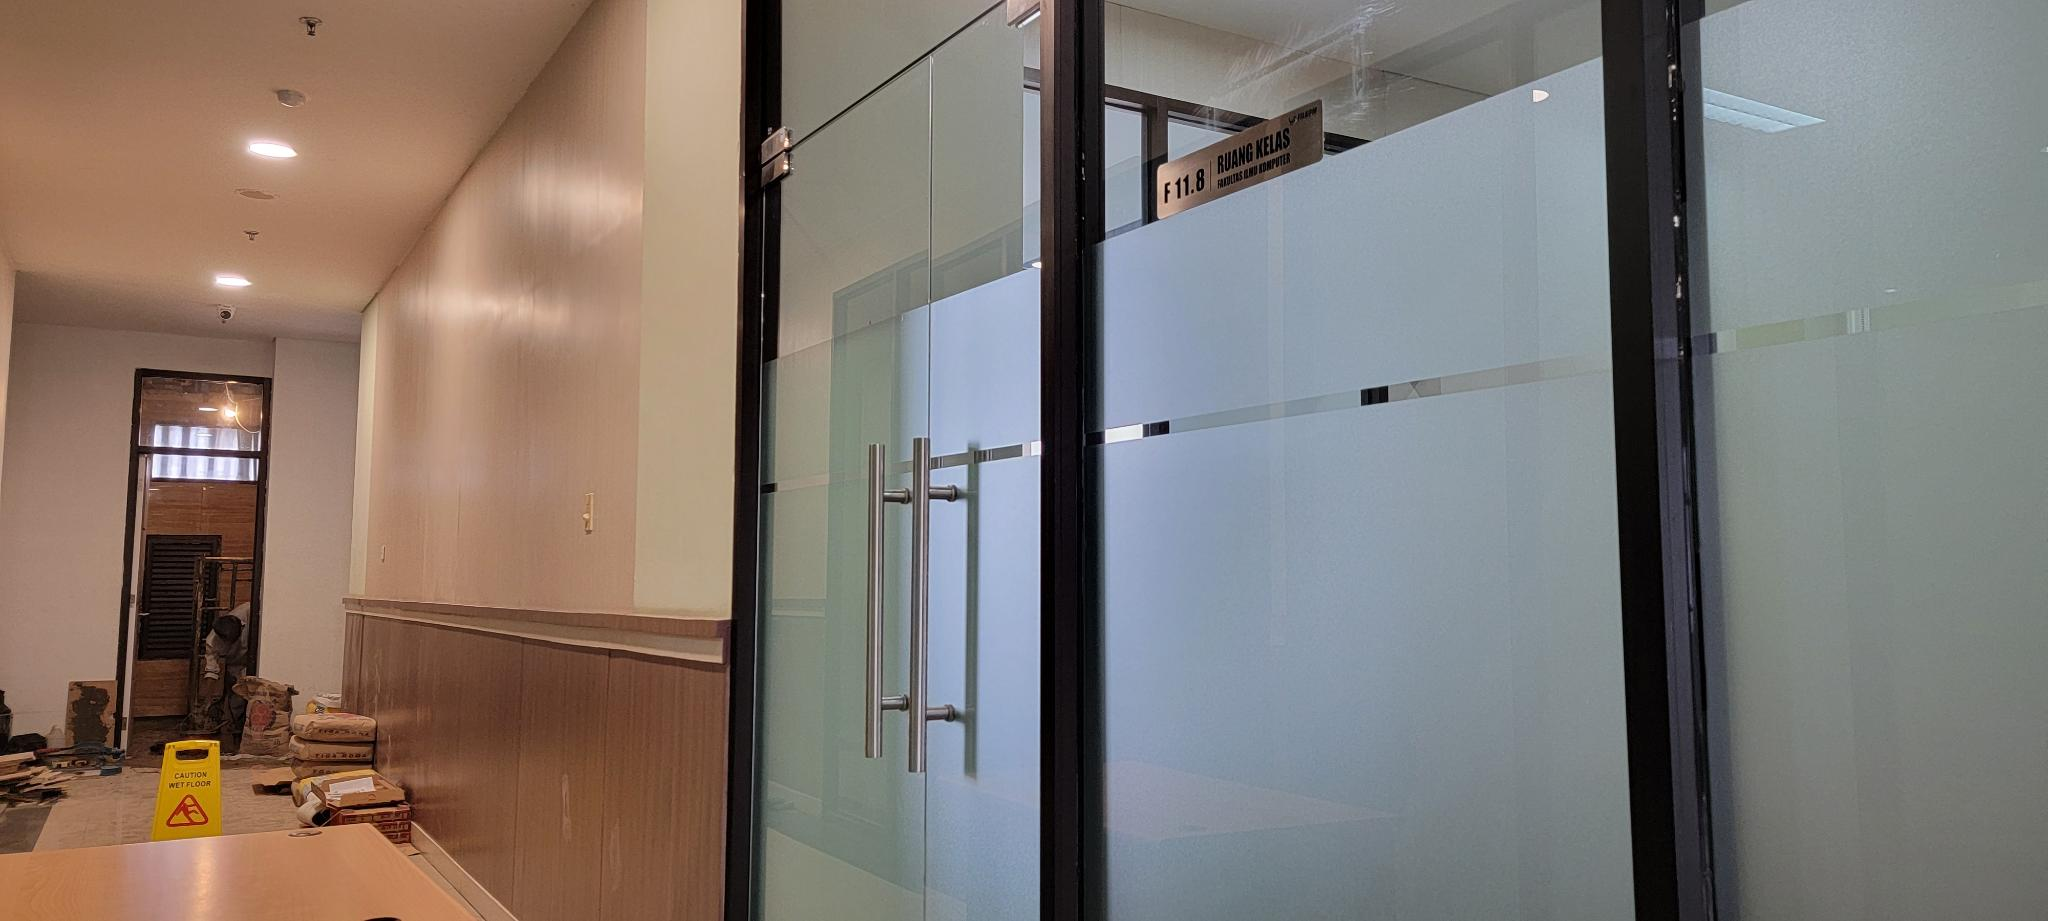plate: (1156, 98, 1324, 221)
